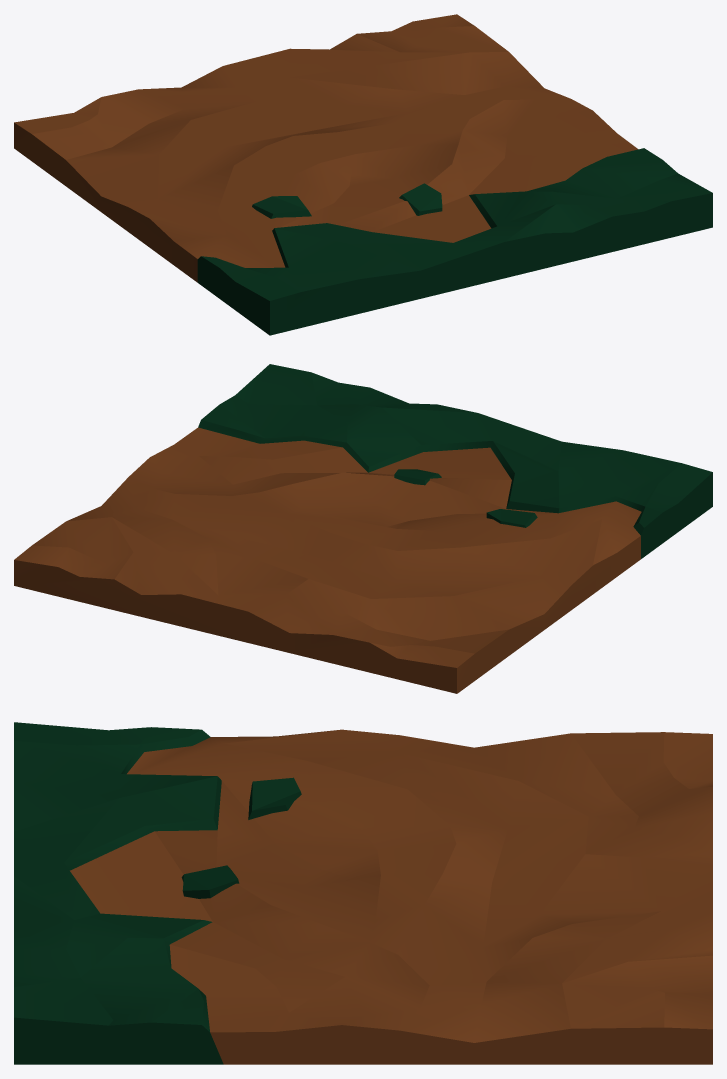
Rendered from Ground_Edge_B_1.fbx.
The picture shows the model from 3 angles, top to bottom: view 1: azimuth 30°, elevation 25°; view 2: azimuth 150°, elevation 25°; view 3: azimuth 270°, elevation 25°; orthographic projection. The views are drawn at different scales.
Visible parts, largest first — view 1: Ground_Edge_B_1; view 2: Ground_Edge_B_1; view 3: Ground_Edge_B_1.
Boxes of the visible parts, x1,y1,x2,y2 form: Ground_Edge_B_1: (14, 14, 712, 335); Ground_Edge_B_1: (14, 364, 712, 693); Ground_Edge_B_1: (14, 722, 712, 1064).
Bounding box in the file's own units: 147 × 12.67 × 147.
